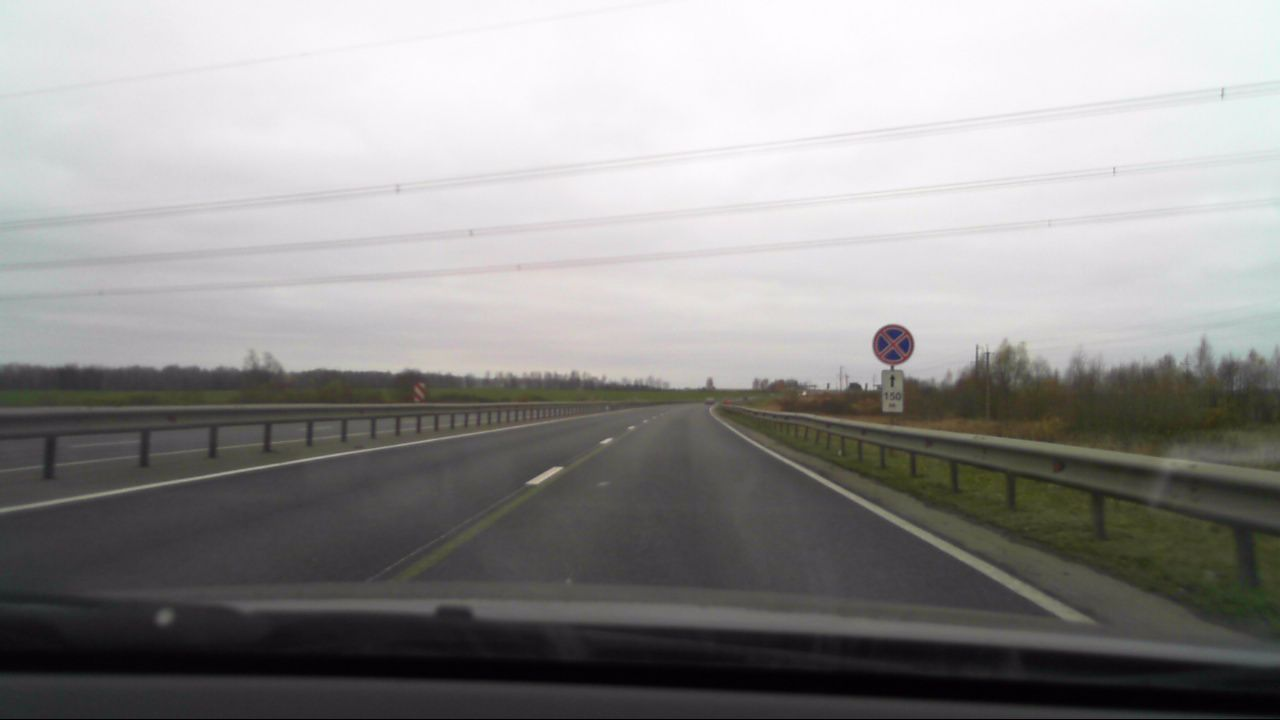No Parking: (872, 325, 913, 365)
